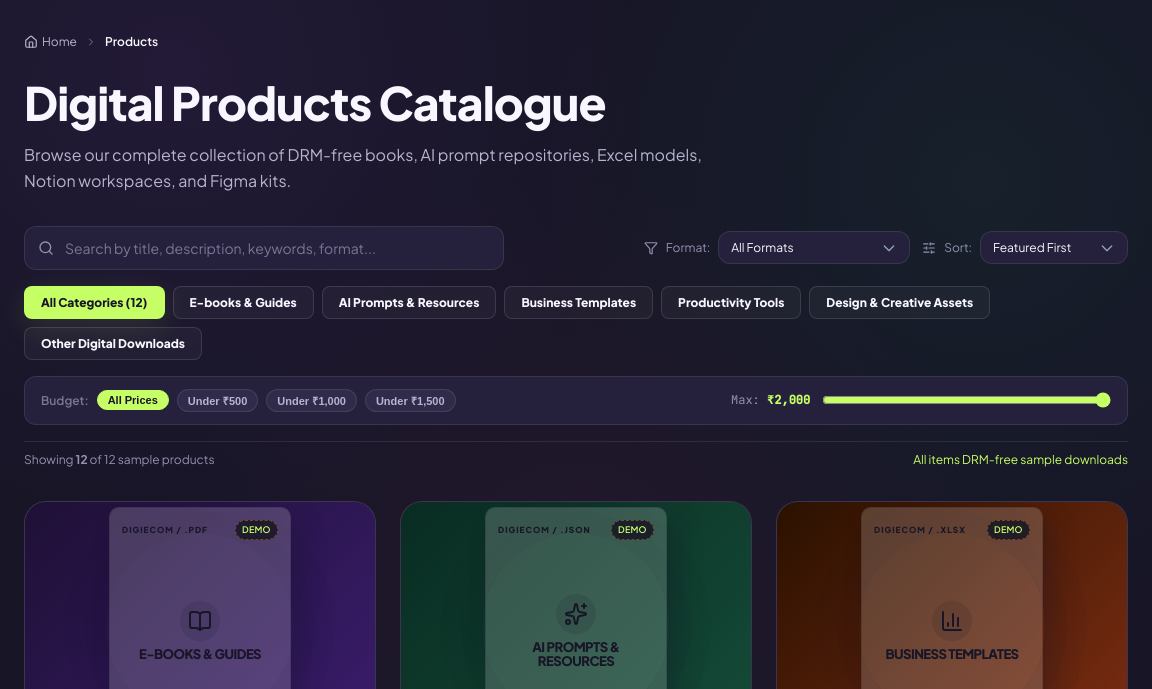
Test case: Option 2: Advanced Catalogue Filters & Quick Preview Modal › Active Filter Chips and Reset › clears all filters when clicking Reset
Note: Apply search and format
Type "SaaS" into the search field named "Filter products by text". click: (264, 248)
box: [24,226,504,270]
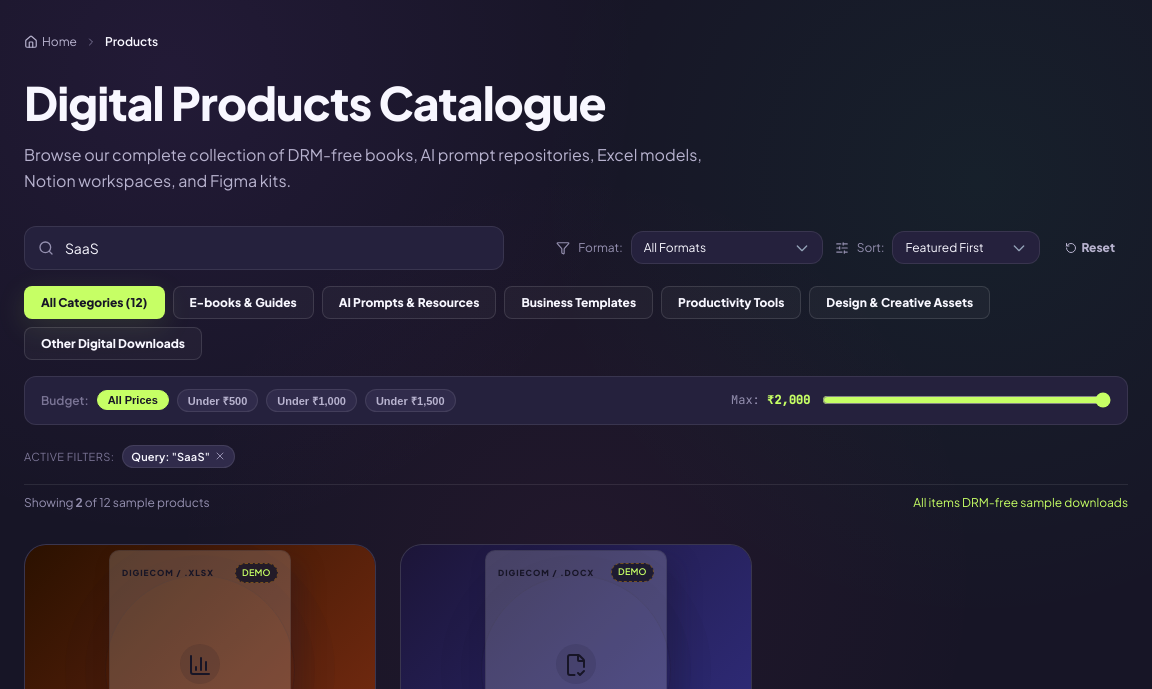
Select "Code Archives (.zip)" in the dropdown named "Filter by file format". click: (727, 248)
box: [631,231,823,264]
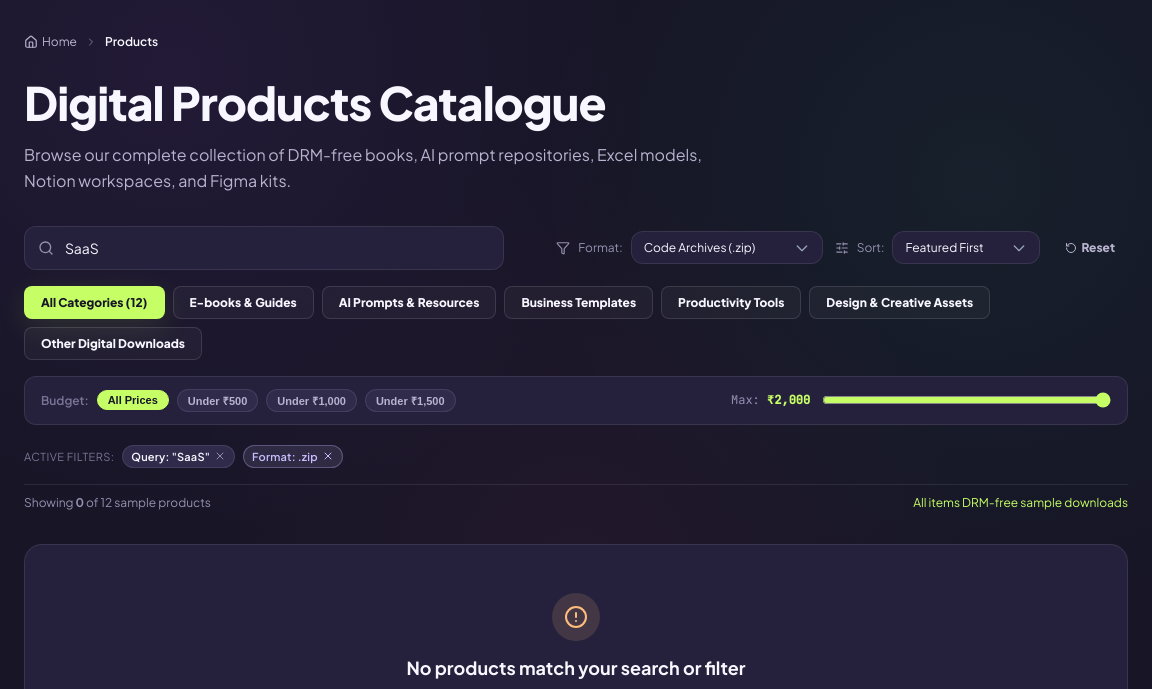
Note: Reset button should be visible
Click the button with aria-label "Reset all search and category filters". click: (1090, 248)
box: [1052,231,1128,264]
(page scrolled)
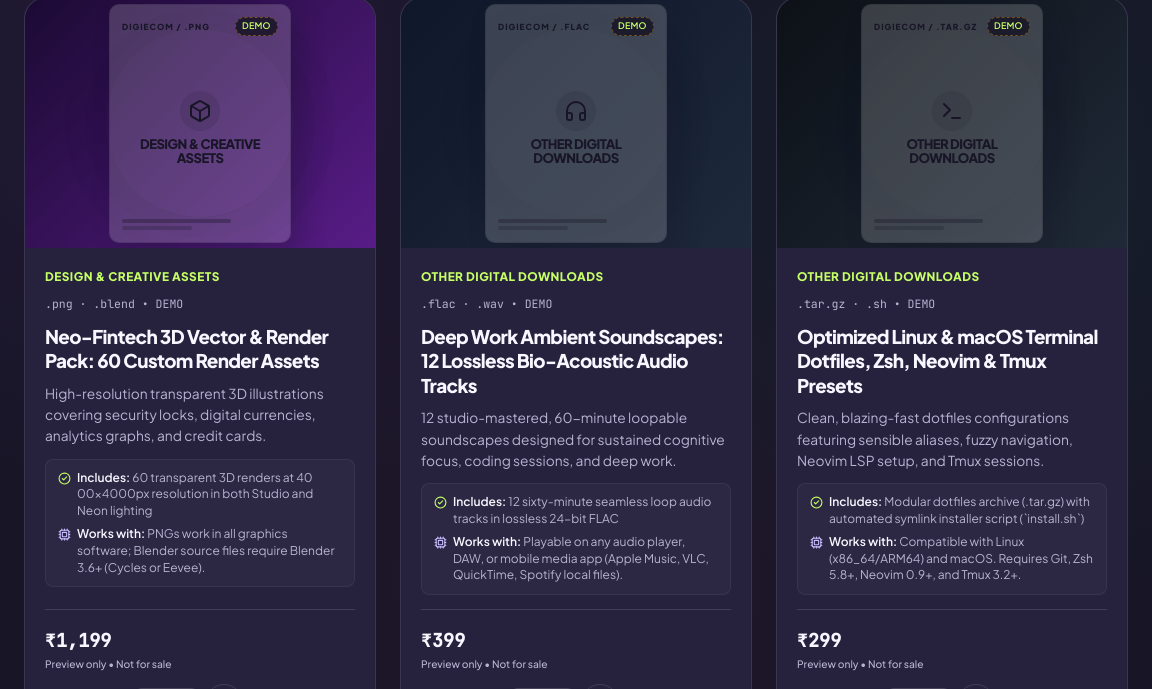
Check: the link "Optimized Linux & macOS Terminal Dotfiles" is shown, box [797,324,1098,397]
